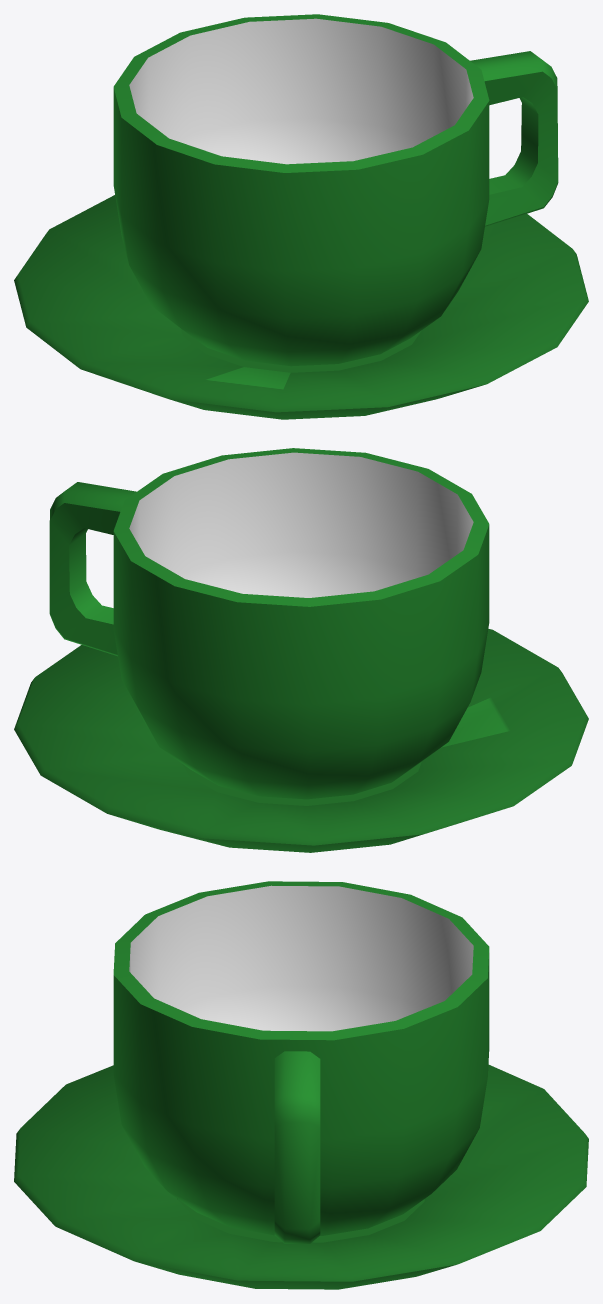
File: Coffee-Cup-1.fbx
The picture shows the model from 3 angles, top to bottom: view 1: azimuth 30°, elevation 25°; view 2: azimuth 150°, elevation 25°; view 3: azimuth 270°, elevation 25°; orthographic projection.
Parts seen in each view (by area): view 1: Coffee-Cup-1; view 2: Coffee-Cup-1; view 3: Coffee-Cup-1.
Part boxes in pixels (x1=…): Coffee-Cup-1: x1=14, y1=14, x2=588, y2=419; Coffee-Cup-1: x1=14, y1=448, x2=588, y2=852; Coffee-Cup-1: x1=14, y1=881, x2=588, y2=1289.
Bounding box in the file's own units: 0.1506 × 0.0696 × 0.1499.
